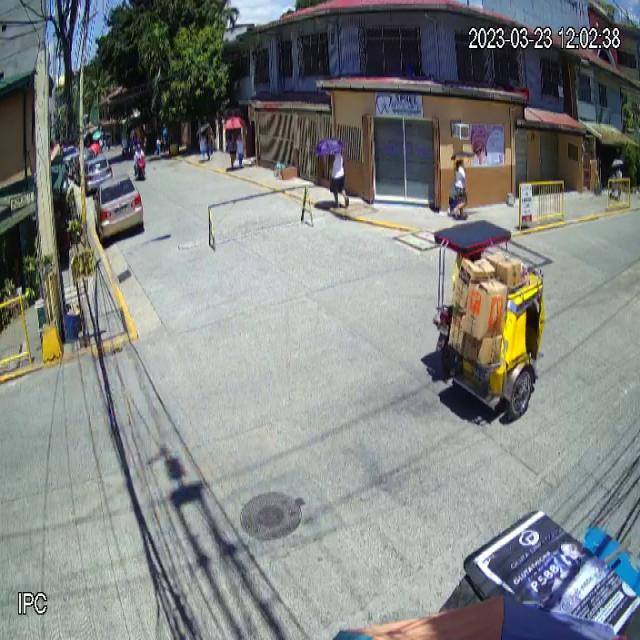Tricycle: (432, 218, 547, 420)
